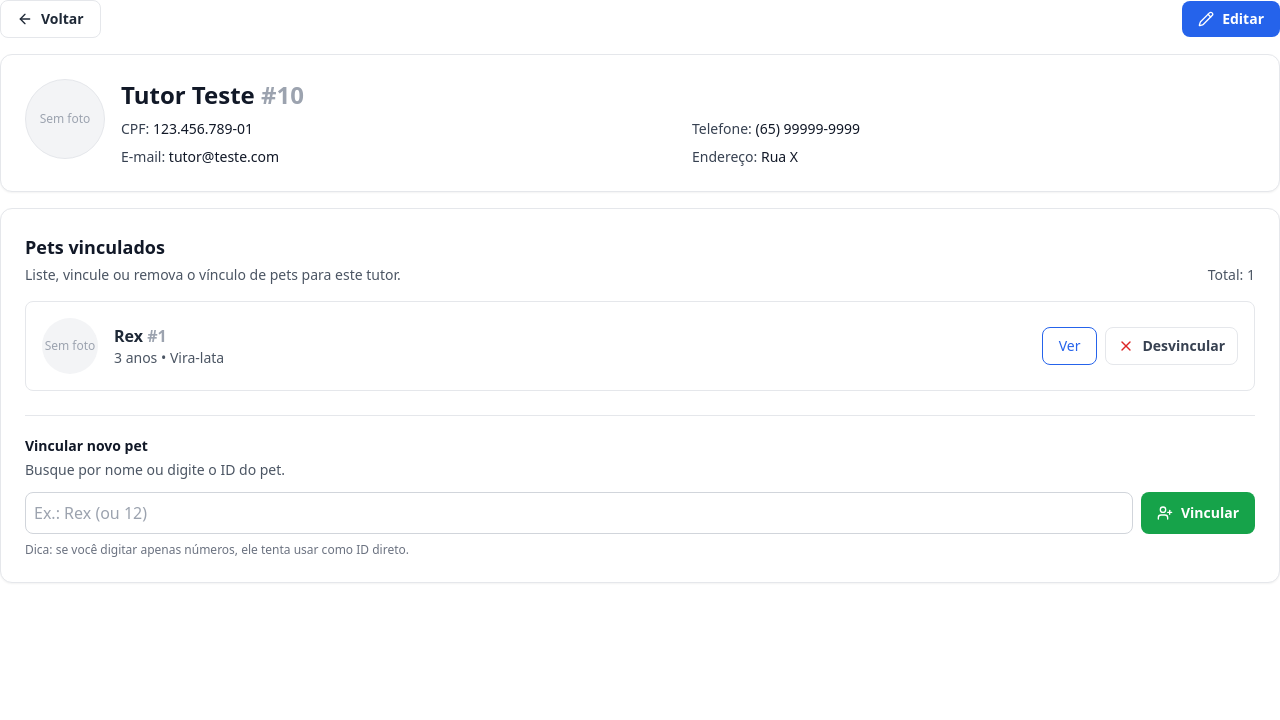
TutorDetail › desvincula pet e recarrega tutor
expect the text "Rex #1" is shown: met, box [114,325,167,347]
# clica "Desvincular"
Click the button "Desvincular" at (1172, 346), box [1106,327,1238,365]
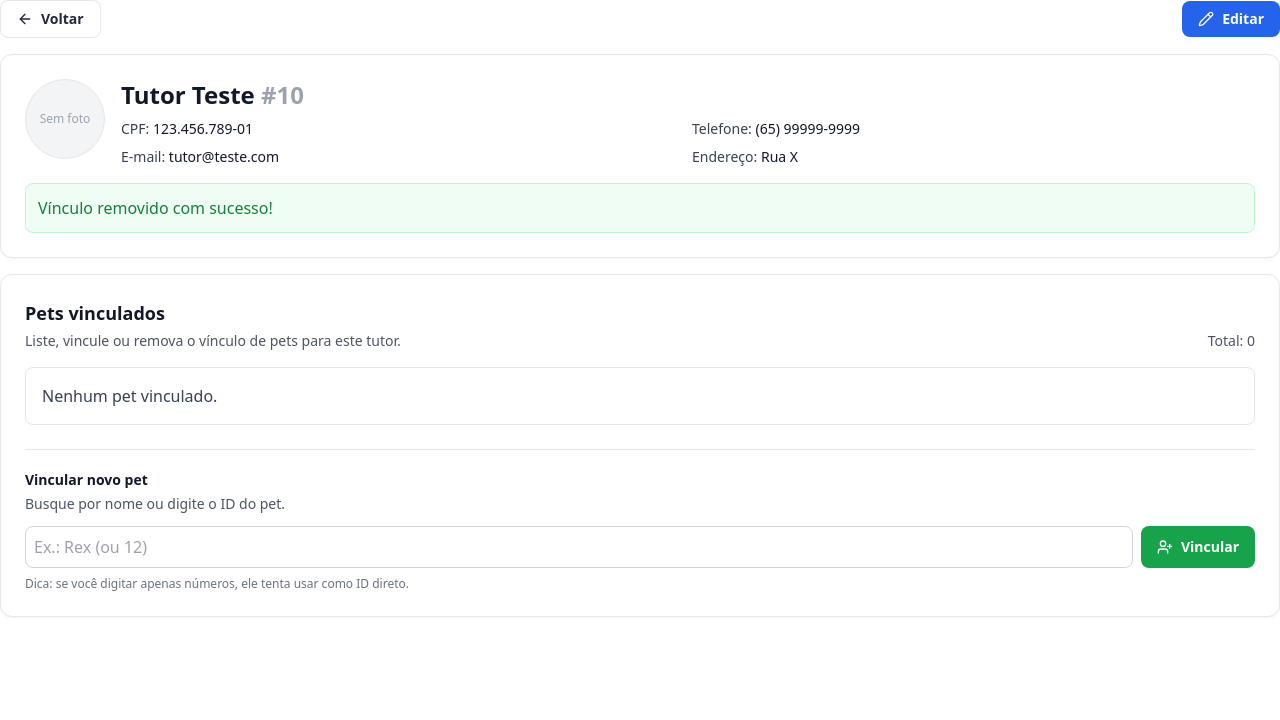
expect the text "Nenhum pet vinculado." is shown: met, box [25,367,1255,425]
